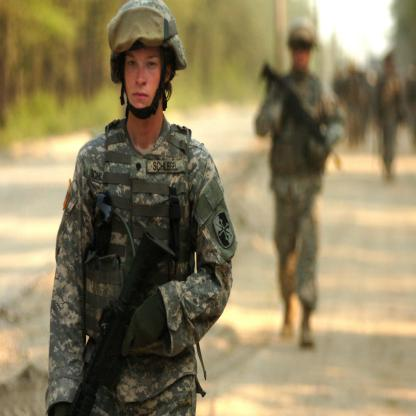Helmet: (102, 0, 187, 143), (288, 23, 317, 73)
